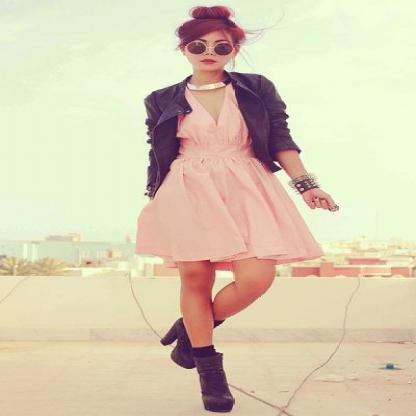dress: (135, 100, 326, 274)
jacket: (145, 70, 300, 191)
shoe: (160, 324, 233, 412)
sunglass: (179, 37, 210, 54)
